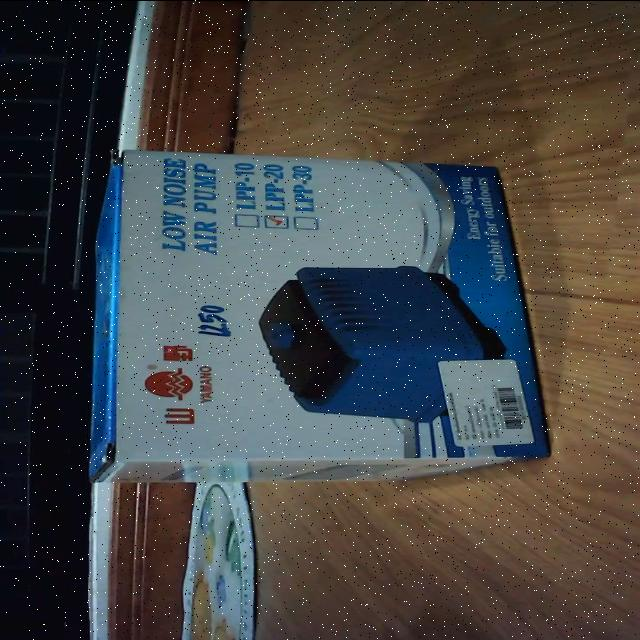YAMANO_LPP_20: (71, 144, 554, 488)
